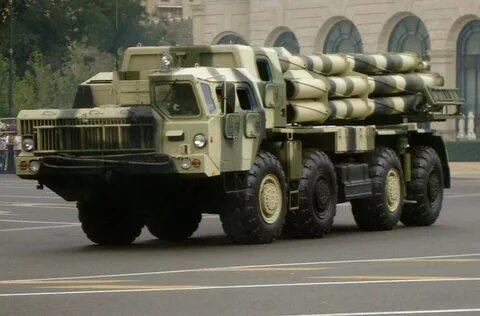rszo: (16, 32, 467, 242)
